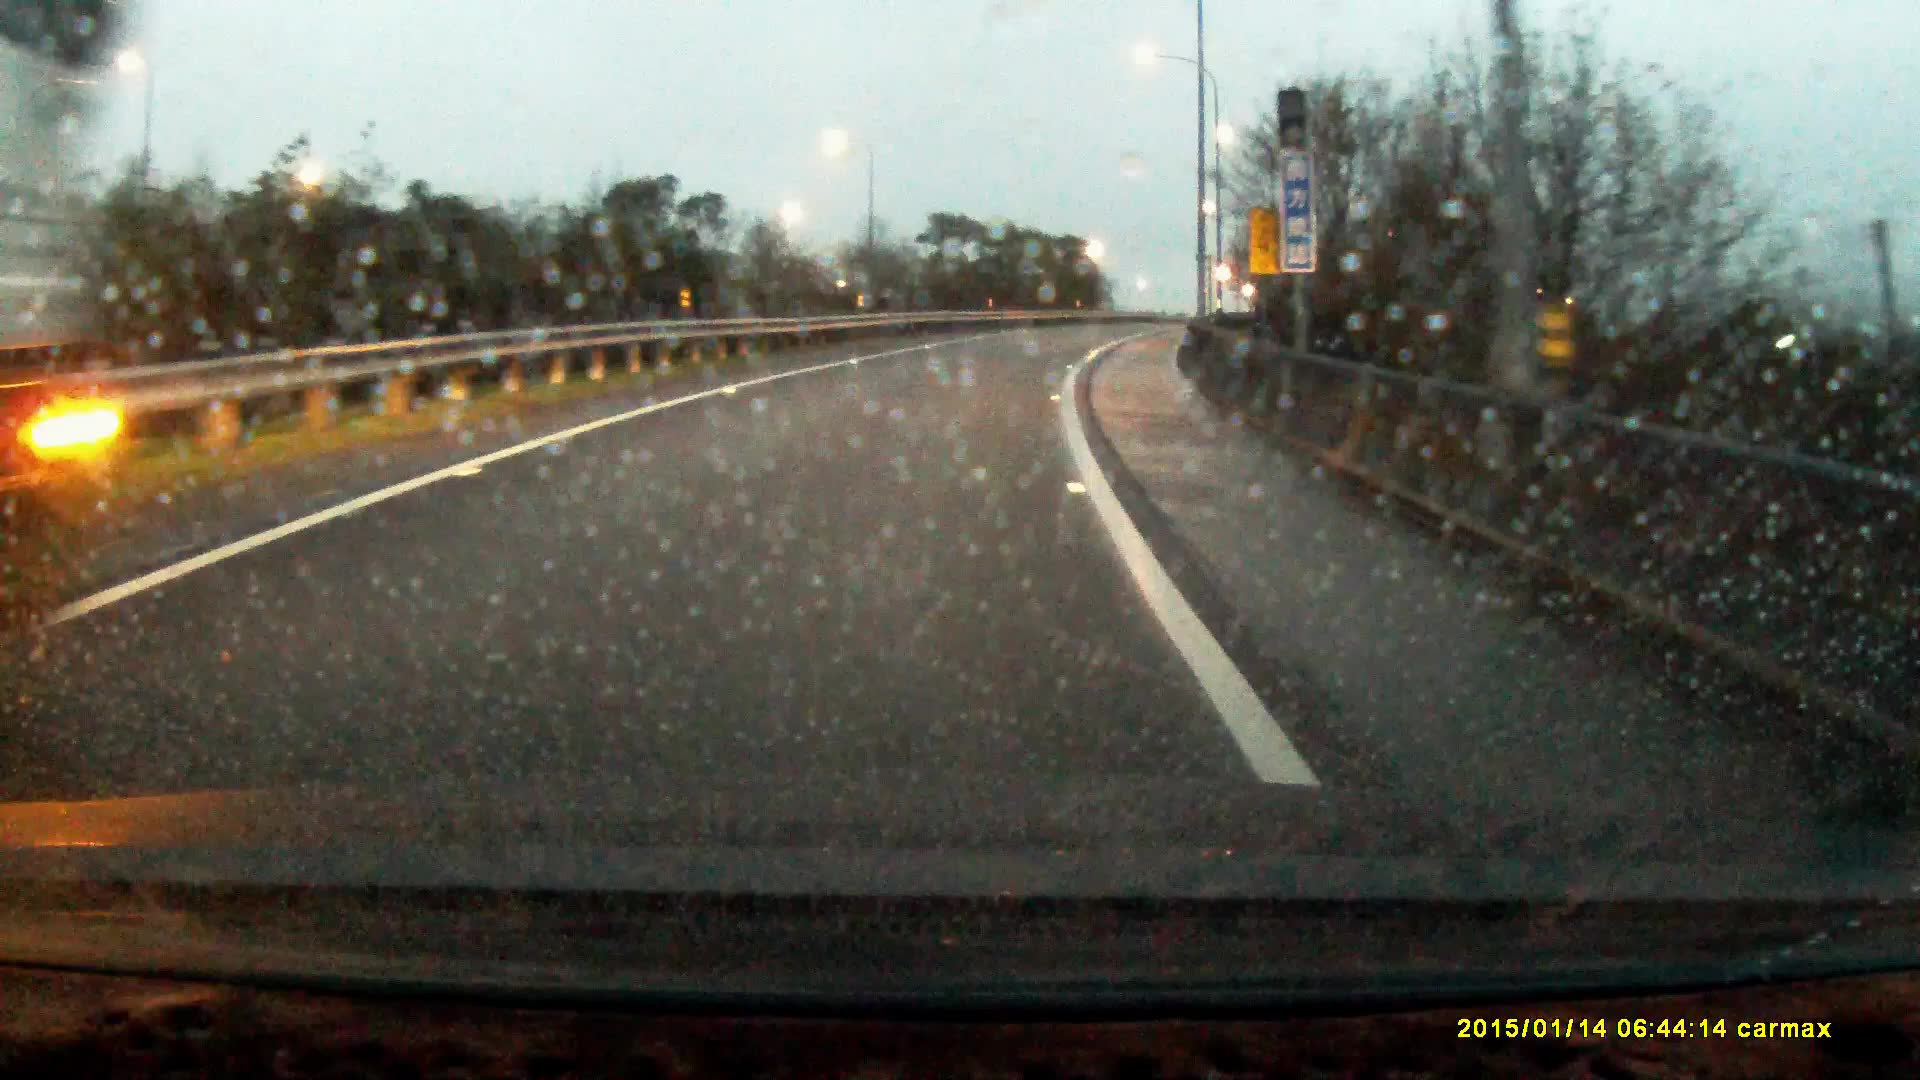vehicle: (1, 1, 140, 647)
